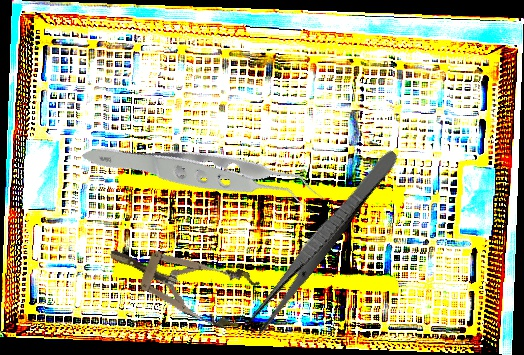Dressing Forceps: (242, 143, 402, 339)
Speculum: (100, 224, 262, 335)
Tissue Forceps: (79, 58, 331, 299)
